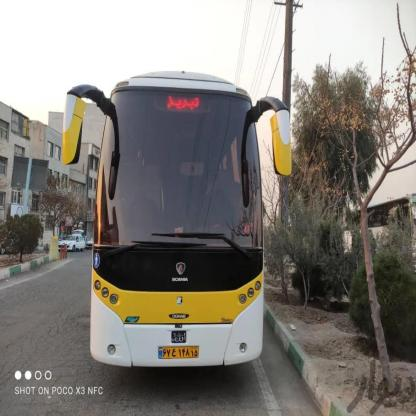Bus: (66, 58, 290, 383)
Car: (57, 229, 87, 251)
